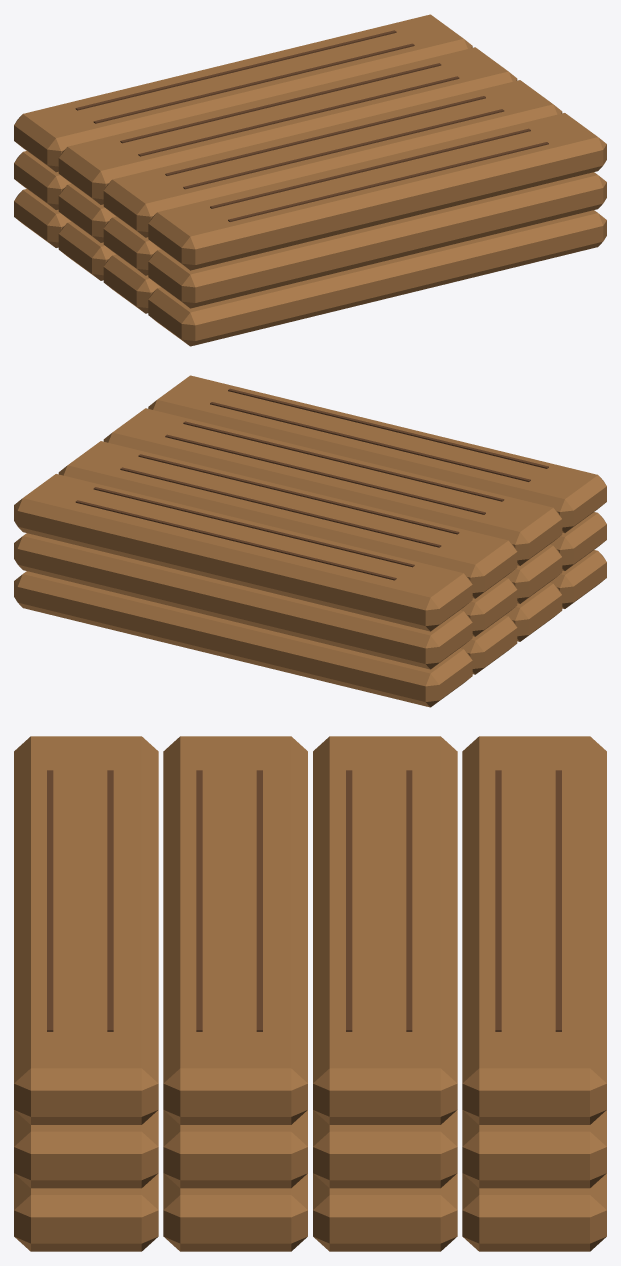
File: plank-stack.glb
The picture shows the model from 3 angles, top to bottom: view 1: azimuth 30°, elevation 25°; view 2: azimuth 150°, elevation 25°; view 3: azimuth 270°, elevation 25°; orthographic projection. The views are drawn at different scales.
Parts seen in each view (by area): view 1: plank-stack; view 2: plank-stack; view 3: plank-stack.
Part boxes in pixels (<box>): plank-stack: <box>14,14,606,346</box>; plank-stack: <box>14,375,606,707</box>; plank-stack: <box>14,736,606,1251</box>.
Bounding box in the file's own units: 1.7 × 0.4245 × 1.23.
